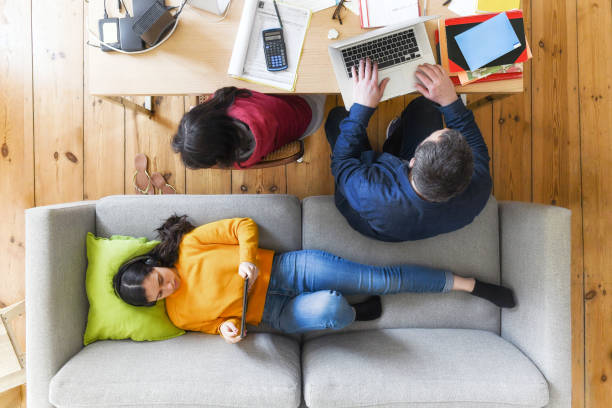without mask: (138, 266, 187, 301)
